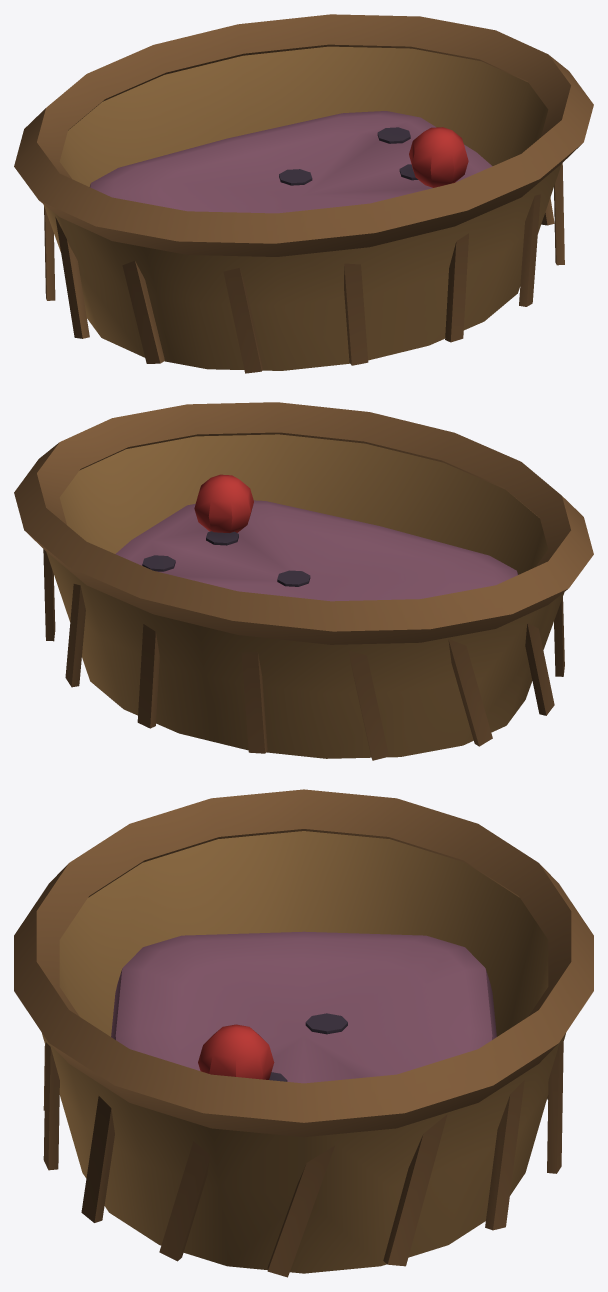
File: bed_pet.glb
3 renders of one model, top to bottom at view 1: azimuth 30°, elevation 25°; view 2: azimuth 150°, elevation 25°; view 3: azimuth 270°, elevation 25°, orthographic. The views are drawn at different scales.
Visible parts, largest first — view 1: bed_pet; view 2: bed_pet; view 3: bed_pet.
Boxes of the visible parts, x1=… form: bed_pet: x1=14, y1=14, x2=593, y2=373; bed_pet: x1=14, y1=402, x2=593, y2=760; bed_pet: x1=14, y1=789, x2=593, y2=1277.
Size of the model in its own units: 0.89 by 0.28 by 0.6837.
